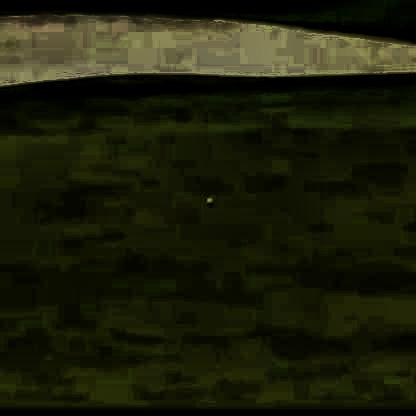golfball: (201, 192, 212, 203)
